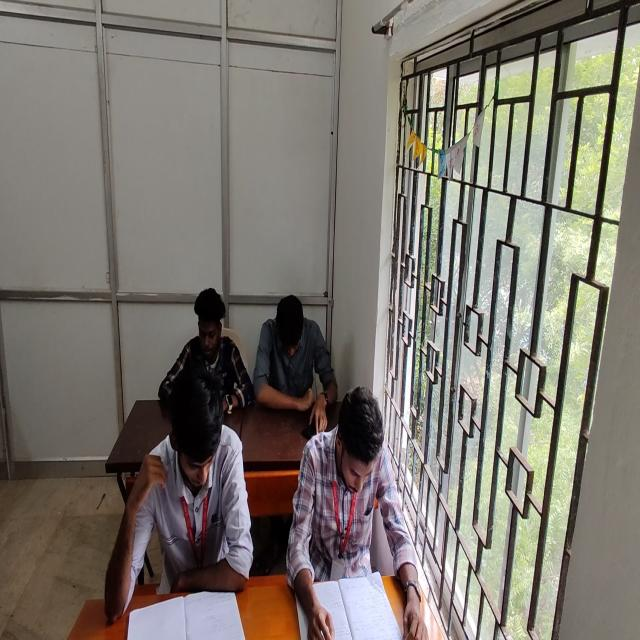reading: (106, 363, 254, 622), (283, 386, 407, 640)
using_mobile: (159, 286, 256, 414), (254, 294, 336, 436)
